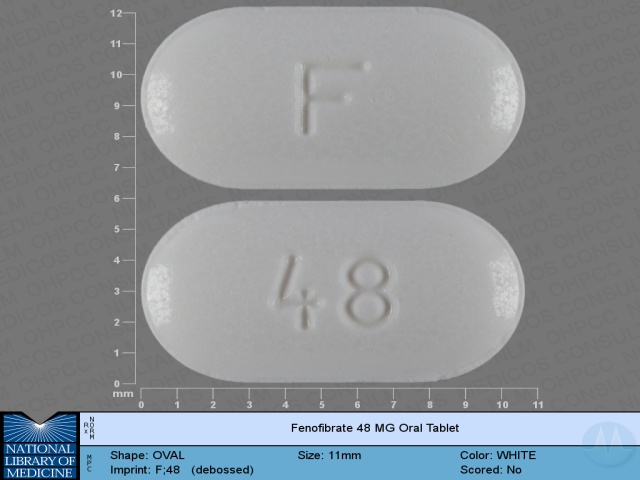4: (266, 249, 327, 337)
8: (334, 251, 404, 338)
F: (293, 52, 381, 150)
